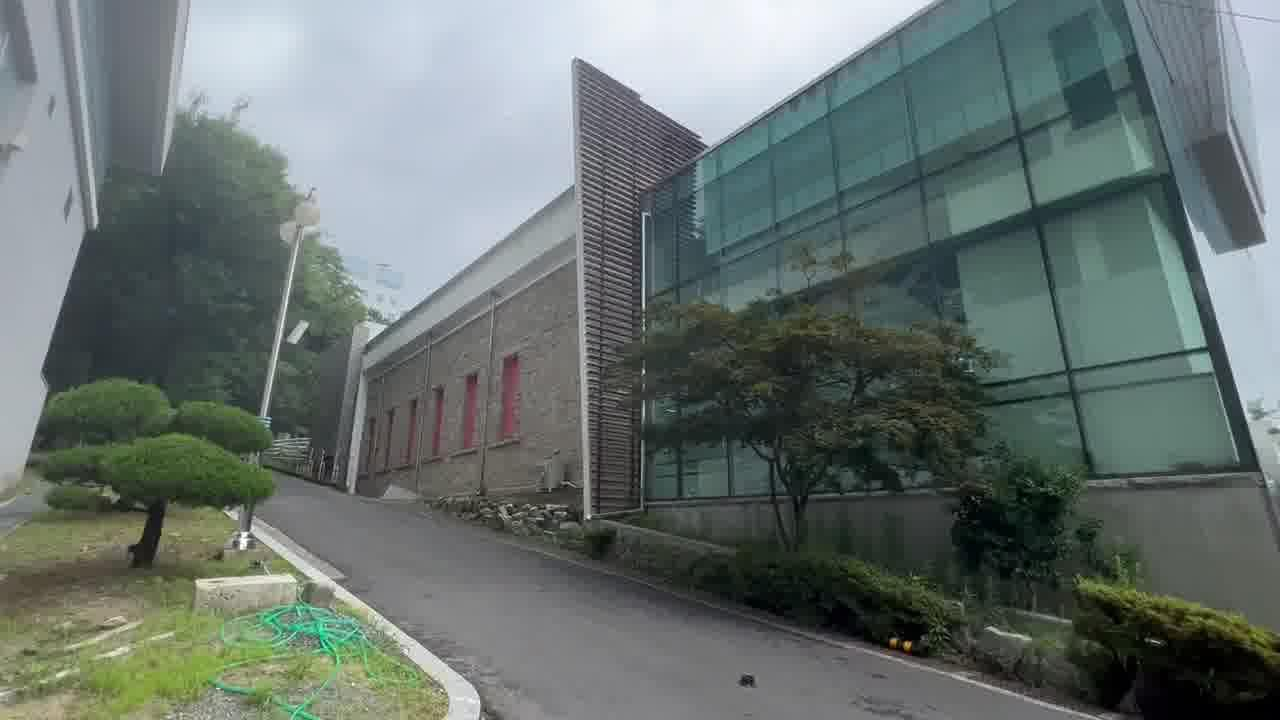building: (363, 47, 1280, 513)
